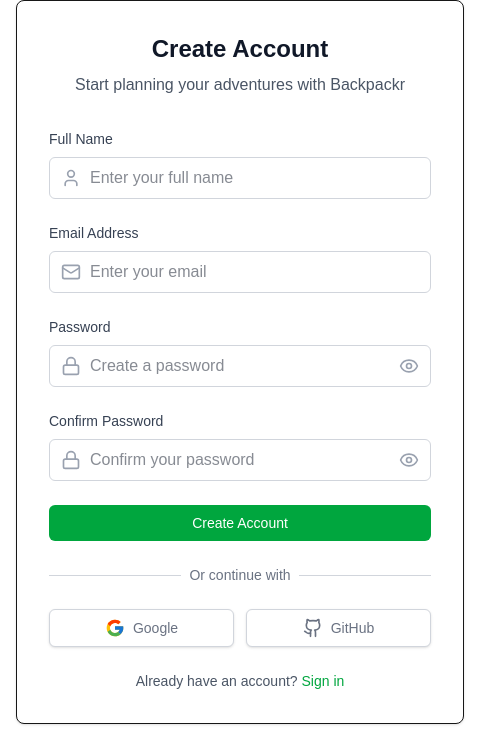
SignupForm › Form Interactions › disables form inputs when loading
Type "John Doe" into the field labelled "Full Name".
click(240, 178); type("John Doe")  # box x1=49 y1=157 x2=431 y2=199
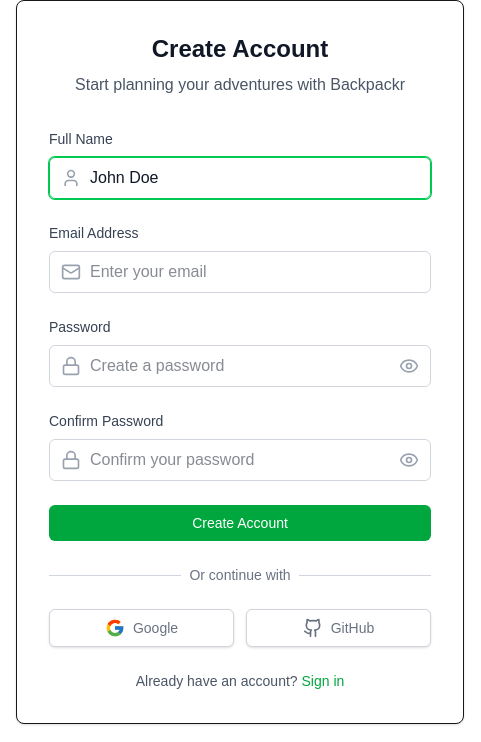
Type "john@example.com" into the field labelled "Email Address".
click(240, 272); type("john@example.com")  # box x1=49 y1=251 x2=431 y2=293
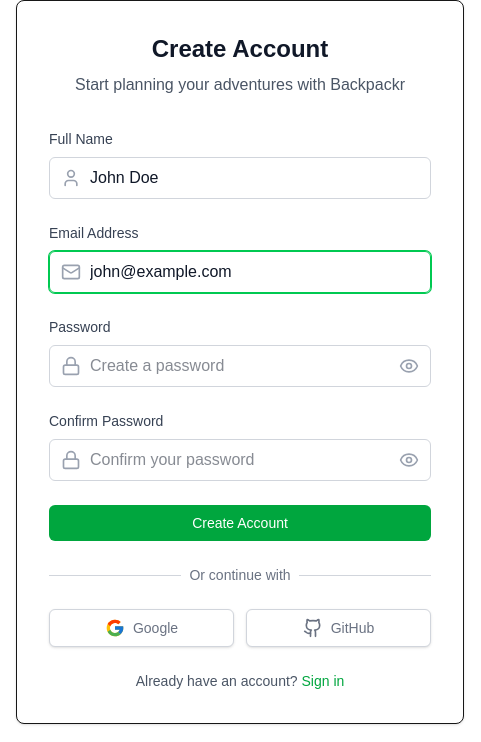
Type "password123" into the password field labelled "Password".
click(240, 366); type("password123")  # box x1=49 y1=345 x2=431 y2=387
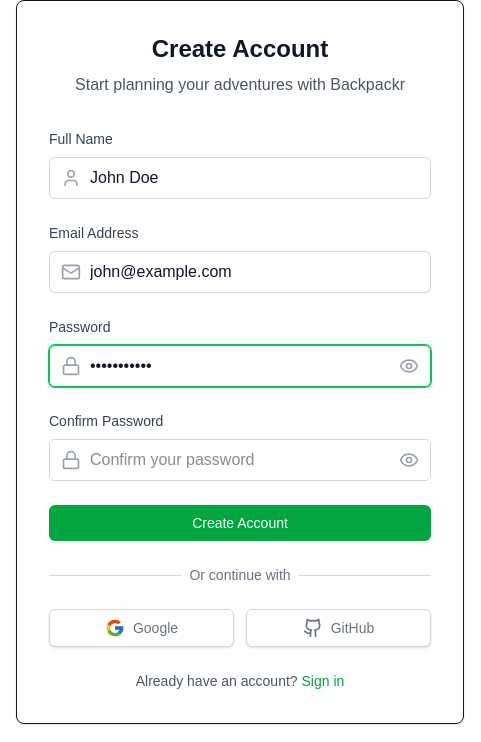
Type "password123" into the password field labelled "Confirm Password".
click(240, 460); type("password123")  # box x1=49 y1=439 x2=431 y2=481
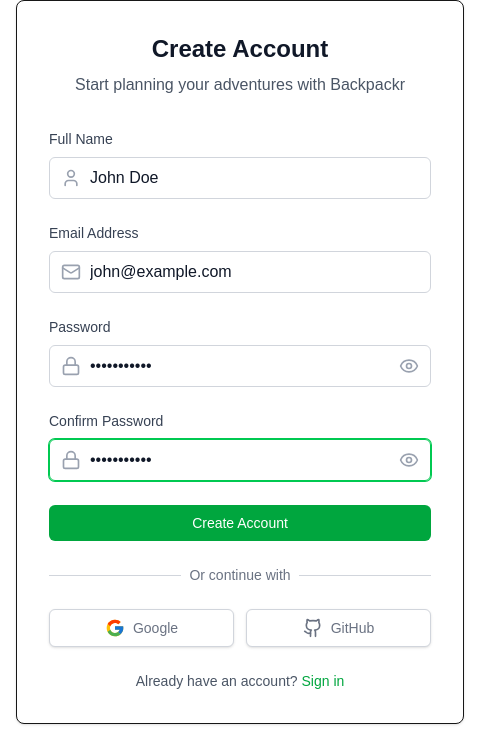
Click the button "Create Account".
click(240, 523)  # box x1=49 y1=505 x2=431 y2=541
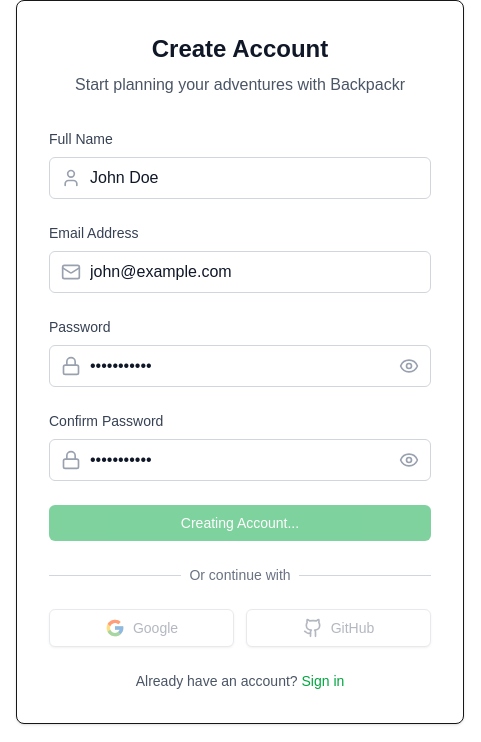
Expected: the field labelled "Full Name" is disabled, x1=49 y1=157 x2=431 y2=199
Expected: the button named "create account" is disabled, x1=49 y1=505 x2=431 y2=541
